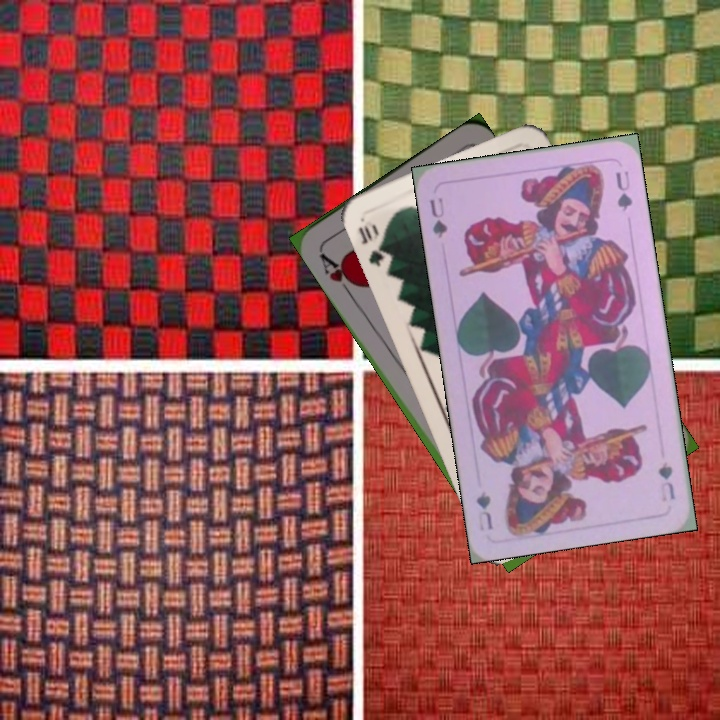G10: (354, 221, 390, 270)
GU: (425, 193, 450, 241), (654, 458, 678, 505)
HA: (315, 246, 361, 298)
